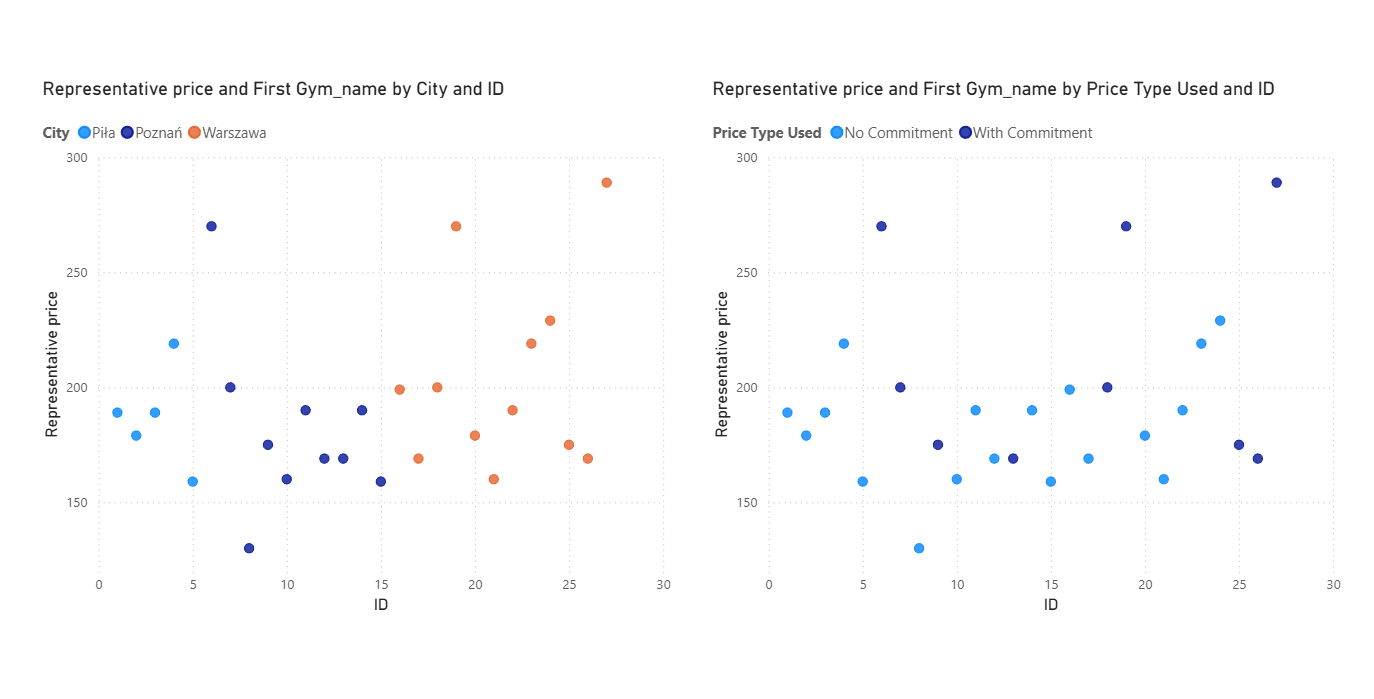

Layout of this report page (visuals, bound fields, positions):
{"tool":"powerbi","page":{"name":"Distribution","canvas":[1280,720],"ordinal":2},"visuals":[{"type":"scatterChart","fields":{"X":["Gyms_raw.ID"],"Y":["Gyms_raw.Representative price"],"Series":["Gyms_raw.City"]},"box":[43.1,96.7,581.2,492.7],"z":0},{"type":"scatterChart","fields":{"X":["Gyms_raw.ID"],"Y":["Gyms_raw.Representative price"],"Series":["Gyms_raw.Price Type Used"]},"box":[652.2,96.7,581.2,492.7],"z":1000}]}

Visuals, with their boxes on the page's 1280x720 design canvas (x1, y1, x2, y2). These are canvas units, not pixel positions in the 1374x699 screenshot, which may show the page scaled, cropped or inside an application window:
scatterChart - Gyms_raw.ID x Gyms_raw.Representative price: left=43, top=97, right=624, bottom=589
scatterChart - Gyms_raw.ID x Gyms_raw.Representative price: left=652, top=97, right=1233, bottom=589
